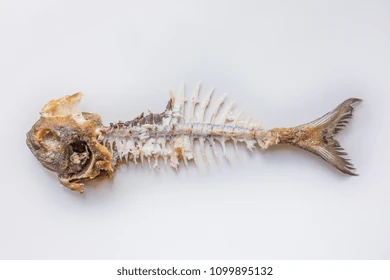food_waste: (26, 89, 369, 188)
